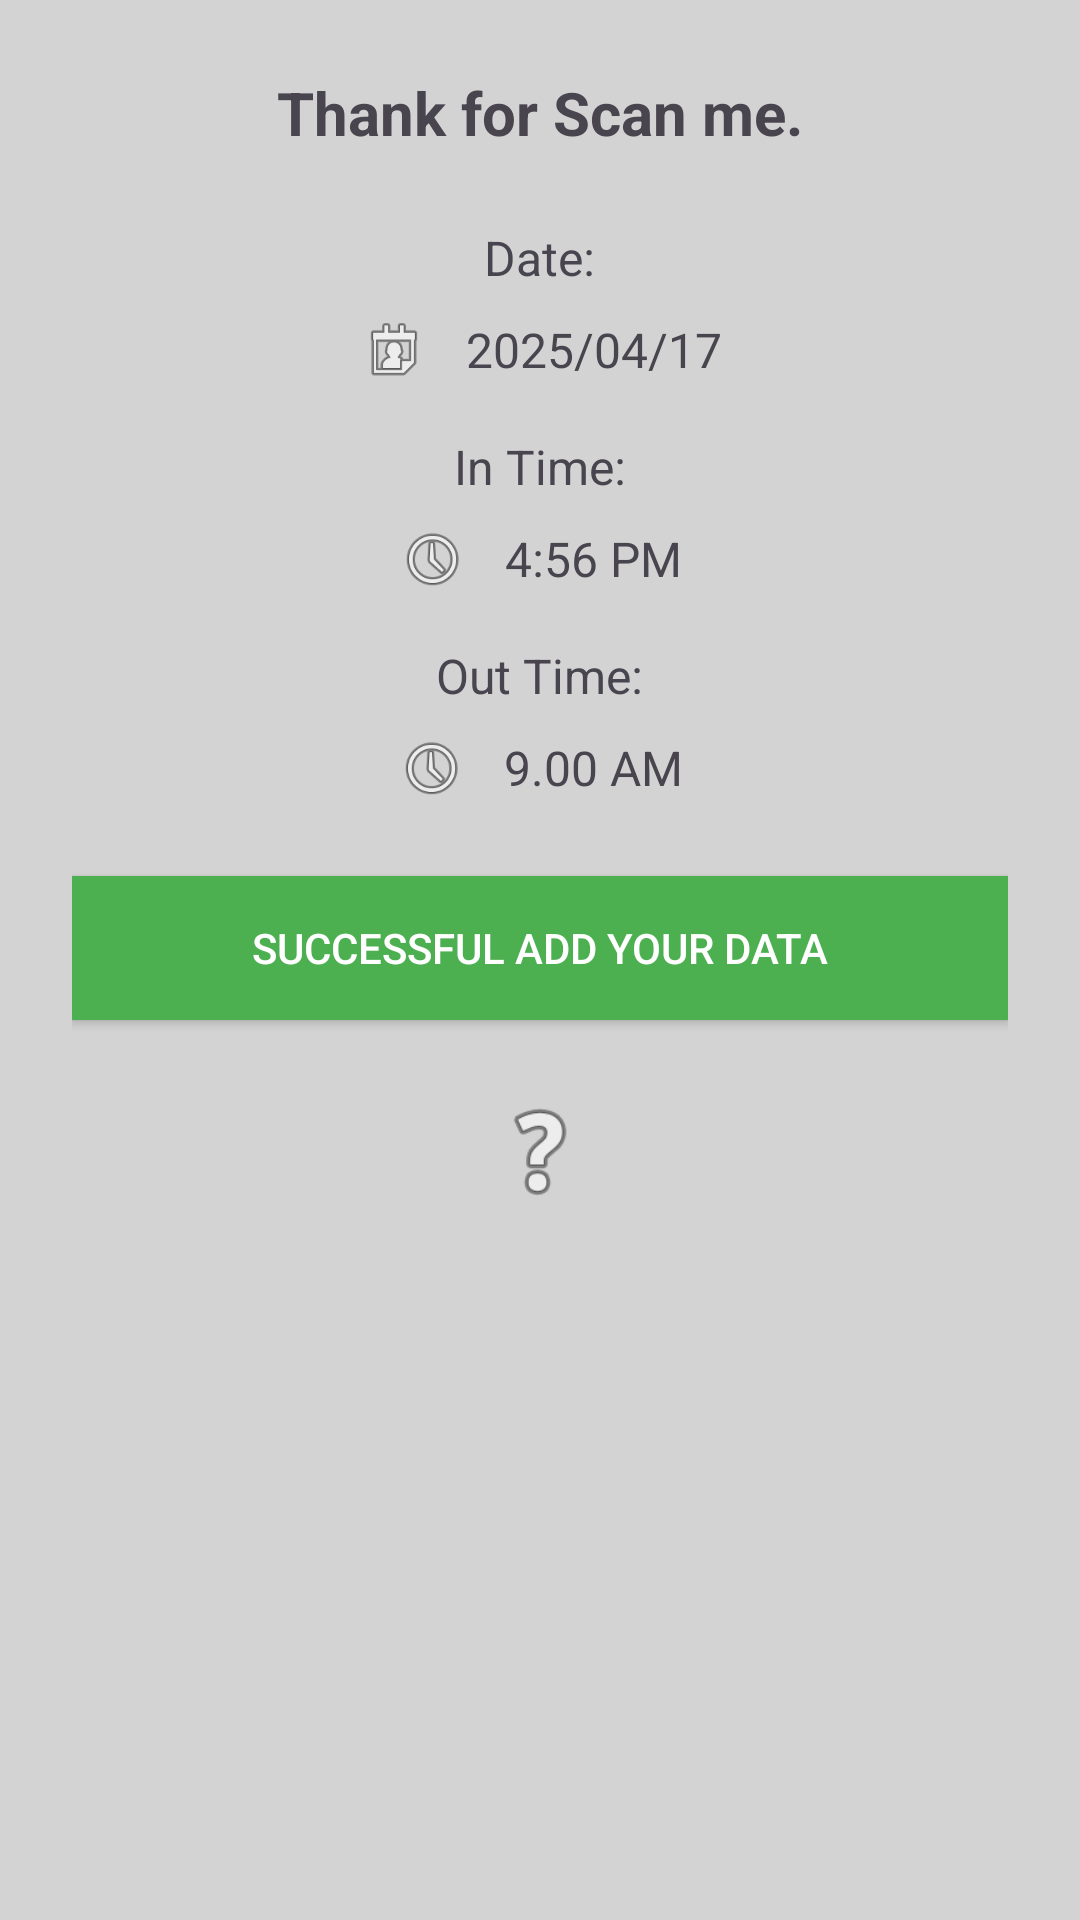

Screen size 1080px x 1920px. Icon name, then its box in pixels as (x1, y1, x2, y2):
help: (514, 1109, 566, 1195)
recent history: (407, 533, 459, 585), (406, 742, 458, 794)
